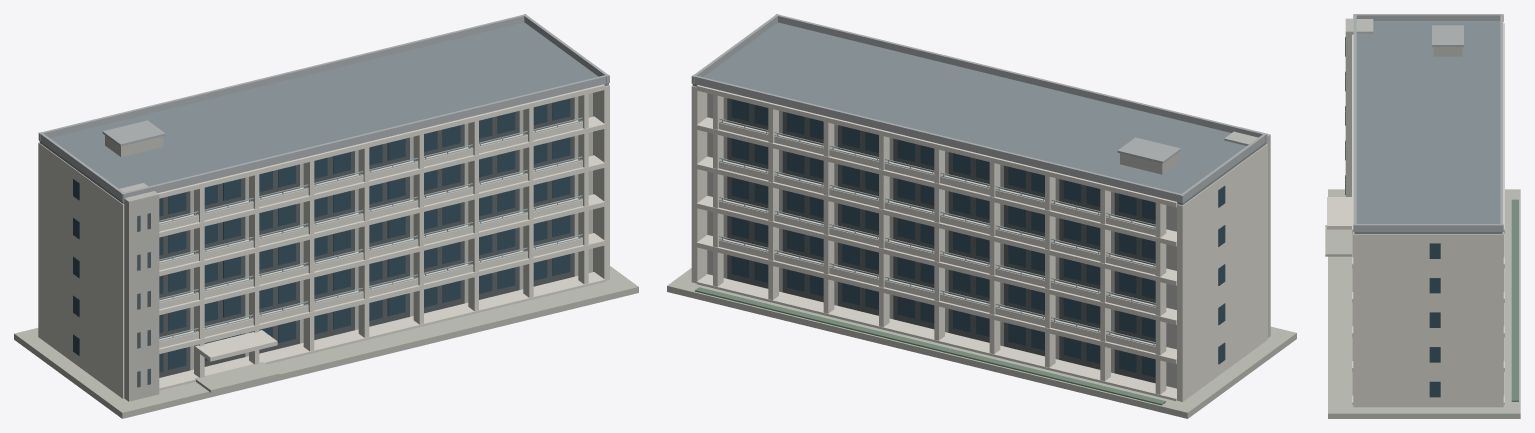
3 views of the same model, side by side, from view 1: azimuth 30°, elevation 25°; view 2: azimuth 150°, elevation 25°; view 3: azimuth 270°, elevation 25° (orthographic). The views are drawn at different scales.
Size of the model in its own units: 42.4 by 17.1 by 15.63.
